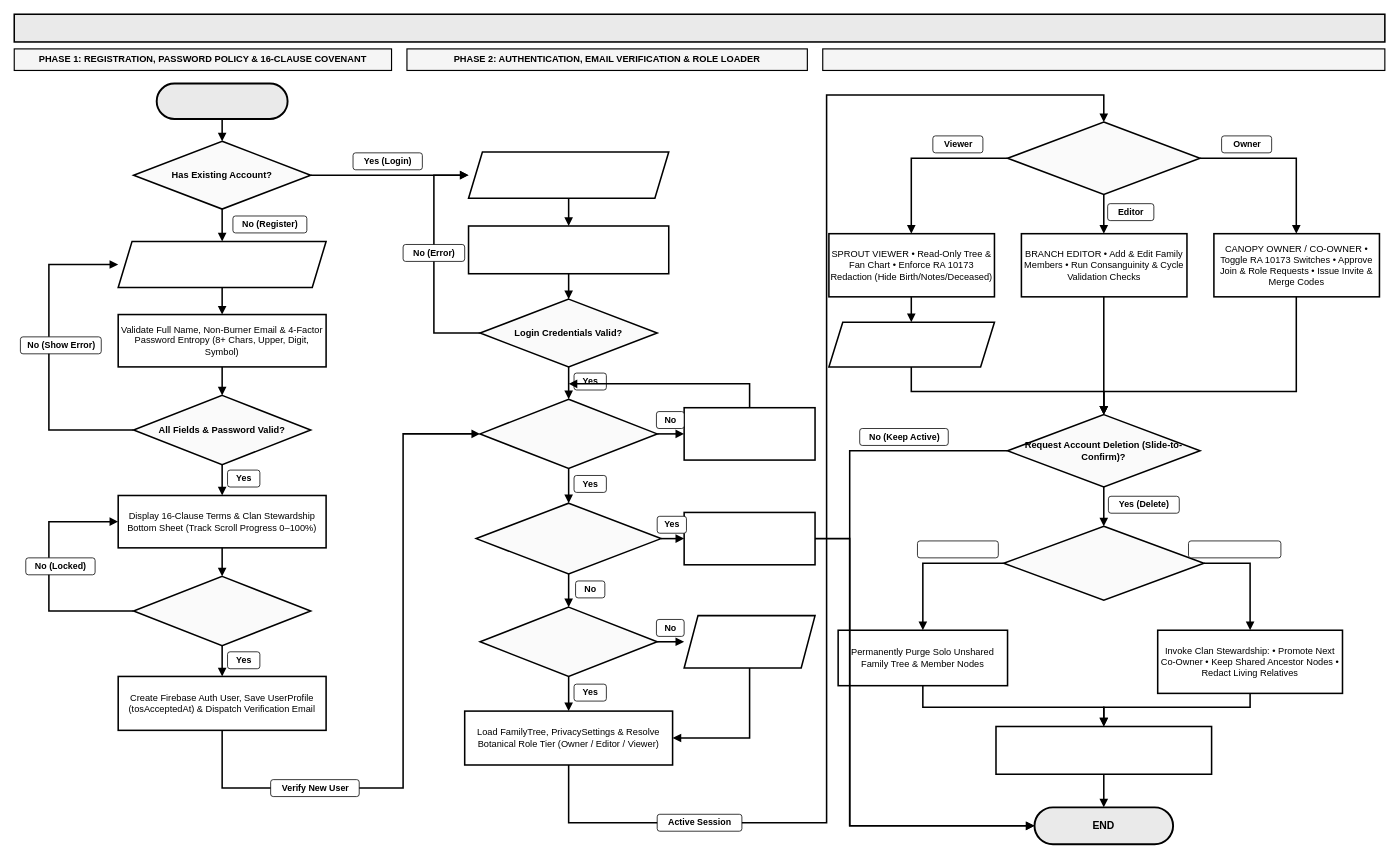
The diagram is 1398 pixels wide and 859 high, and some of its shapes have lost their labels. Here are the shapes that lost their labels. From the top down, the centre of each, then its label:
At [699,27]: "SYSTEM FLOWCHART — USER MANAGEMENT, ROLE GOVERNANCE & SECURITY MODULE".
At [1103,59]: "PHASE 3: BOTANICAL RBAC, RA 10173 PRIVACY & STEWARDSHIP".
At [221,101]: "START".
At [568,175]: "Input Registered Email & Password".
At [1103,158]: "Evaluate Assigned Botanical Role Tier".
At [221,264]: "Input Full Name, Email & Password".
At [568,249]: "Authenticate Credentials via Firebase Auth (AuthHelper)".
At [911,344]: "Optional: Send Golden Leaf Upgrade Request to Owner".
At [568,433]: "Is Email Verified (or Admin)?".
At [749,433]: "Route to VerifyEmailActivity (60s Resend Cooldown Gate)".
At [568,538]: "Is System Admin (admin@kintrace.ph)?".
At [749,538]: "Launch System Admin Citadel (Approve +150 Quotas, Restore Trash & Audit Logs)".
At [957,549]: "No (Solo Tree)".
At [1234,549]: "Yes (Shared Clan)".
At [1103,563]: "Is Family Tree Shared (Members > 1 or Co-Owners)?".
At [221,610]: "Scrolled to 100% & Accepted?".
At [568,641]: "Has Active Family Tree?".
At [749,641]: "Create Tree OR Submit 6-Char Invite Code".
At [1103,750]: "Erase Personal Firebase Auth Login, Email & Local Session Cache".
